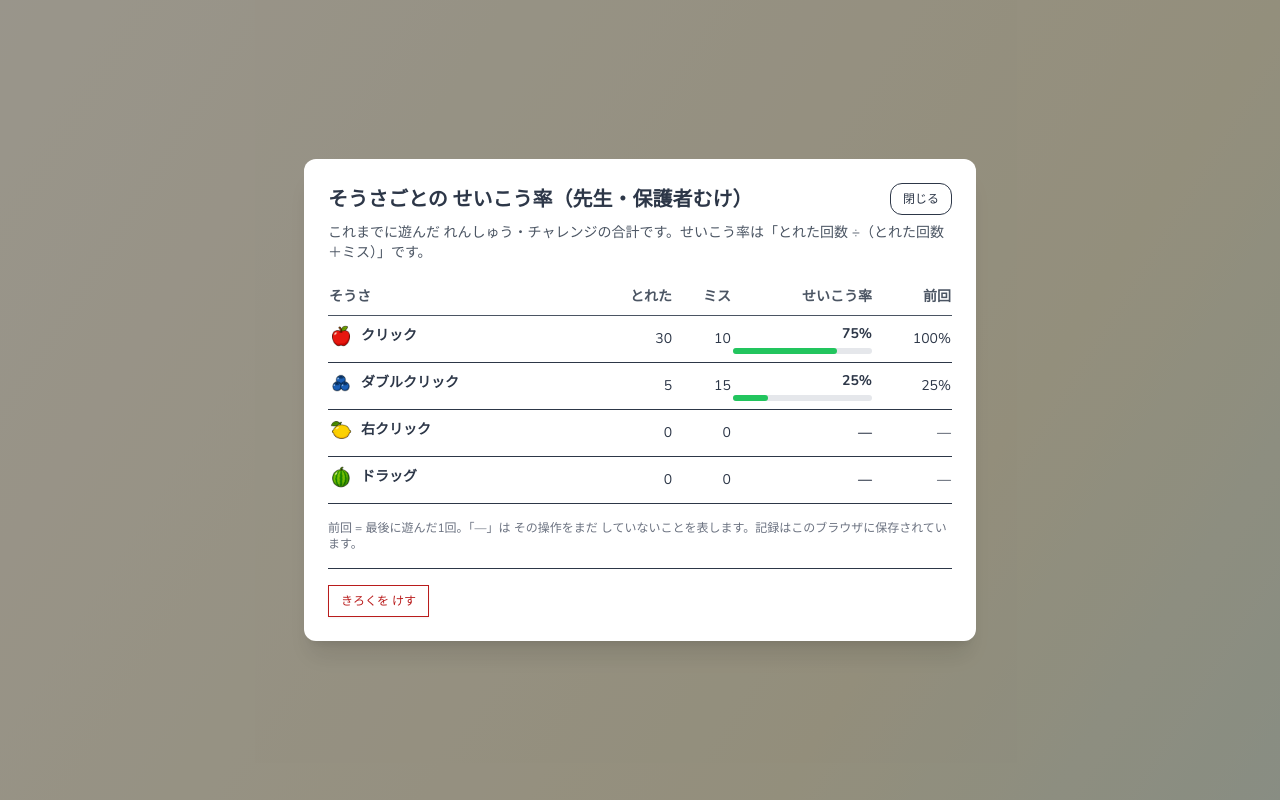
せっていから開いて きろくを けす › RST-N-03: 消すと表は「—」になり、保存も0、星とバッジは残る
Earlier steps of the test are not shown.
Click the button "きろくを けす" at (379, 601), box top-left (328, 585), bottom-right (429, 617)
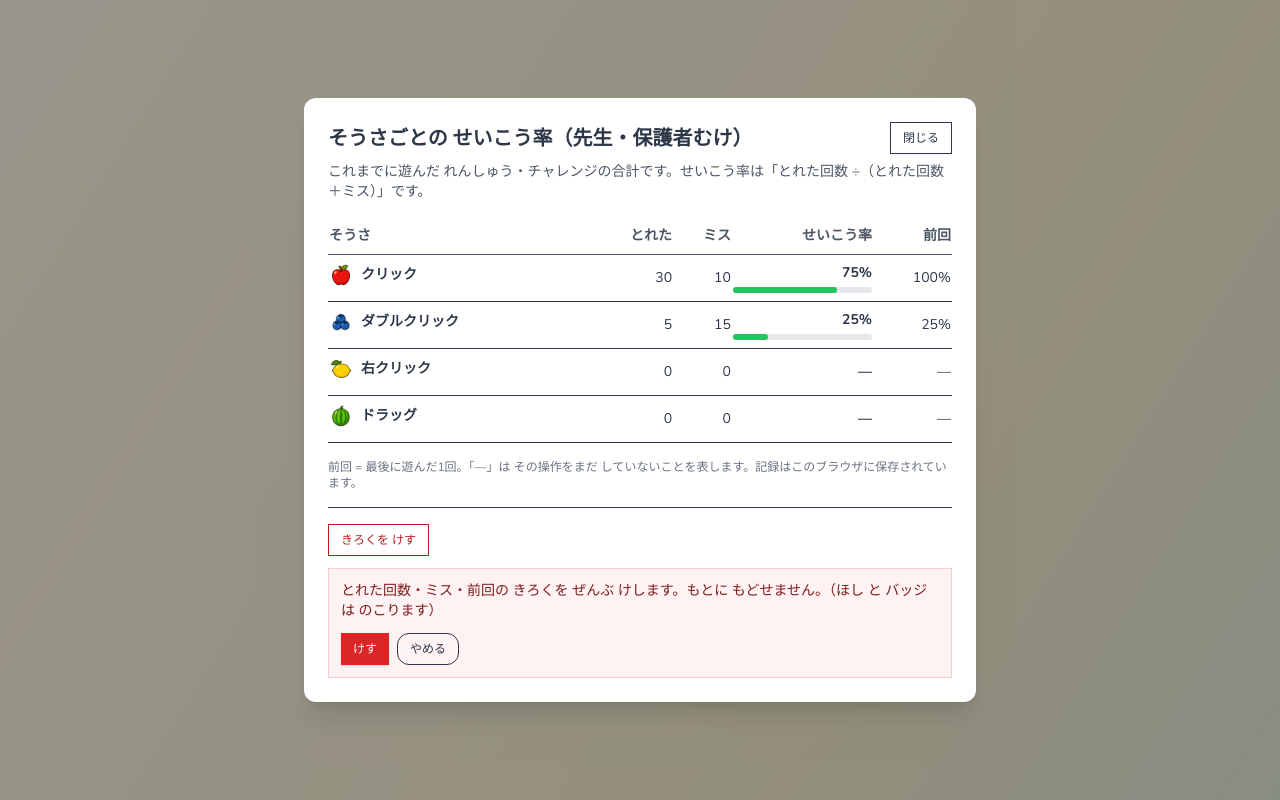
Click the button "けす" at (365, 649), box top-left (341, 633), bottom-right (389, 665)
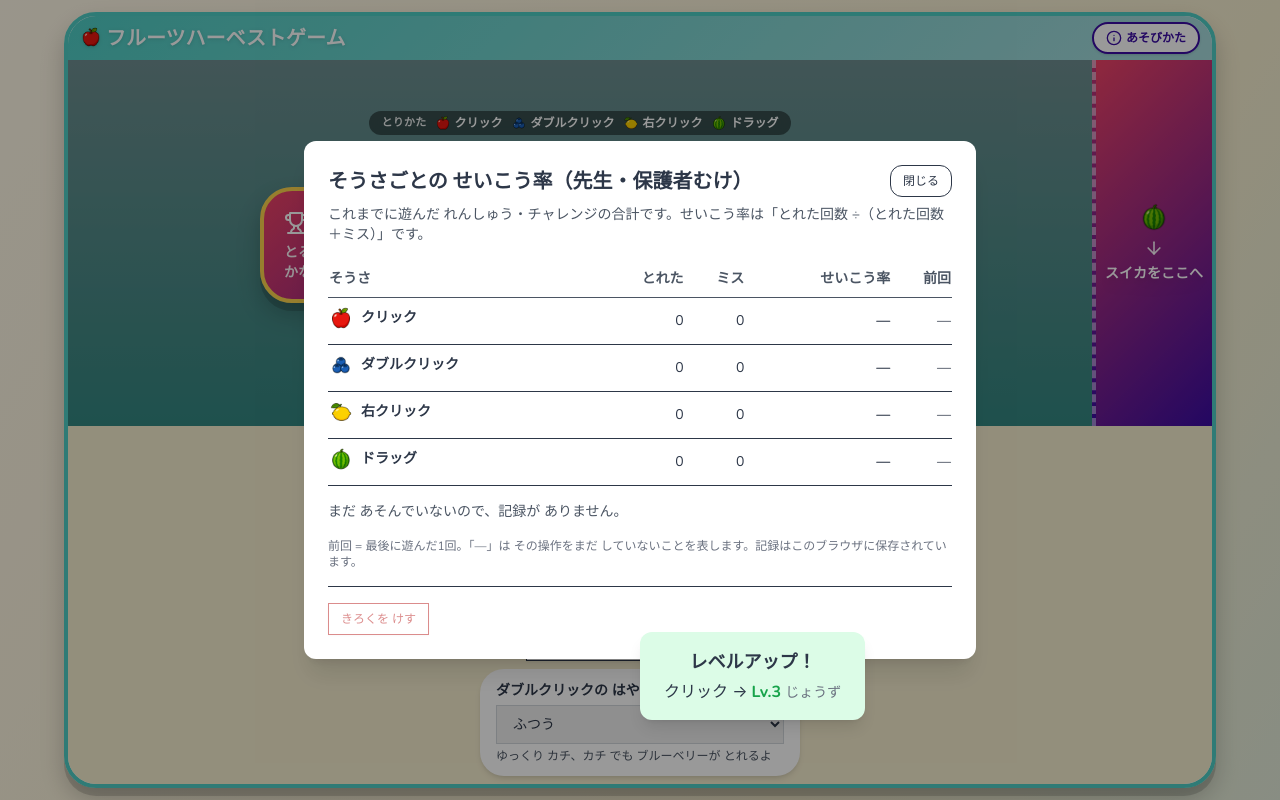
Expected: the 5th cell with test id "report-total-rate" reads "—", top-left (876, 405), bottom-right (890, 424)
Expected: the 1st cell with test id "report-total-rate" reads "—", top-left (876, 311), bottom-right (890, 330)
Expected: the 3rd cell with test id "report-total-rate" reads "—", top-left (876, 358), bottom-right (890, 377)
